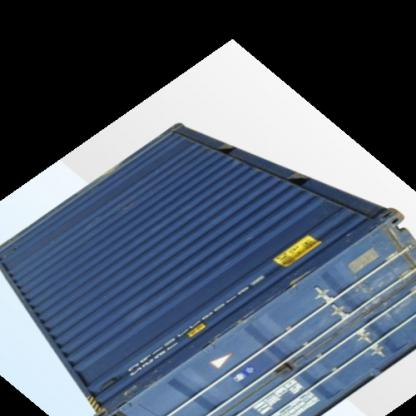Damage: (356, 260, 410, 309), (116, 359, 173, 396)
